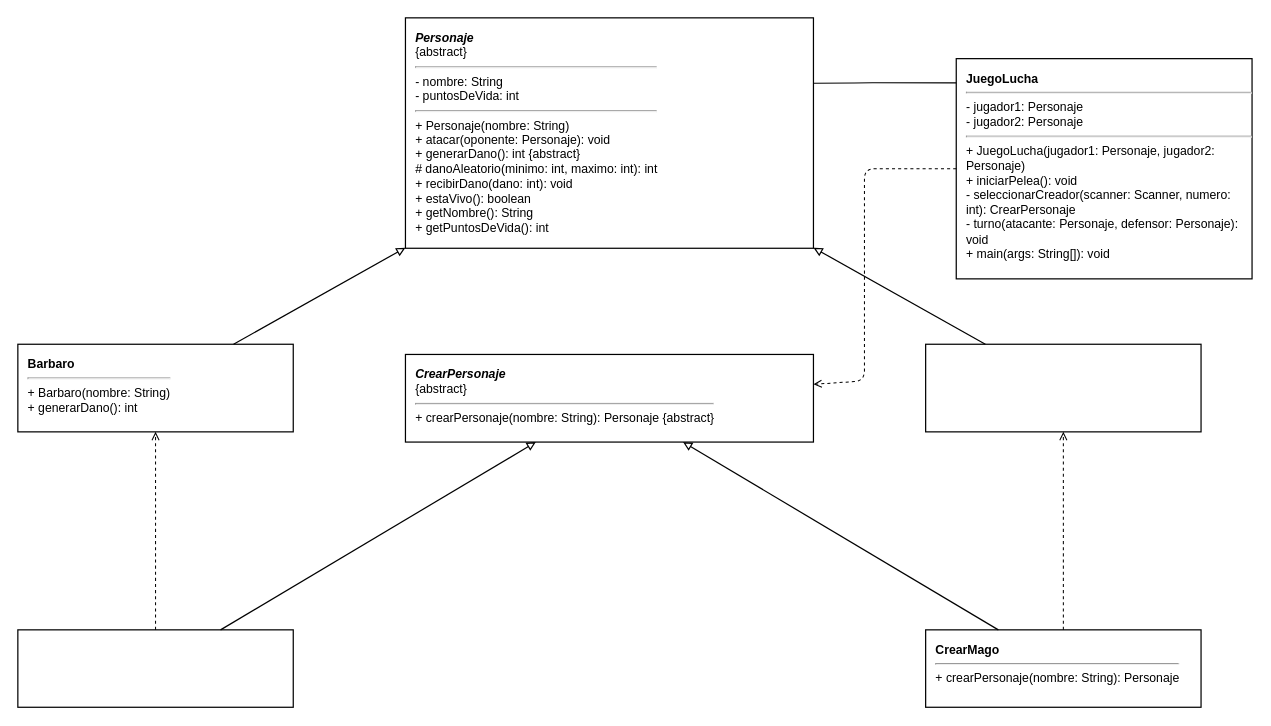
The diagram is 1271 pixels wide and 726 high, and some of its shapes have lost their labels. The shapes that lost their labels are listed below. From the top down, each one's box as (x1, y1, x2, y2) in pixels, then its label:
(925, 343, 1201, 432): Mago + Mago(nombre: String) + generarDano(): int
(17, 629, 293, 707): CrearBarbaro + crearPersonaje(nombre: String): Personaje
